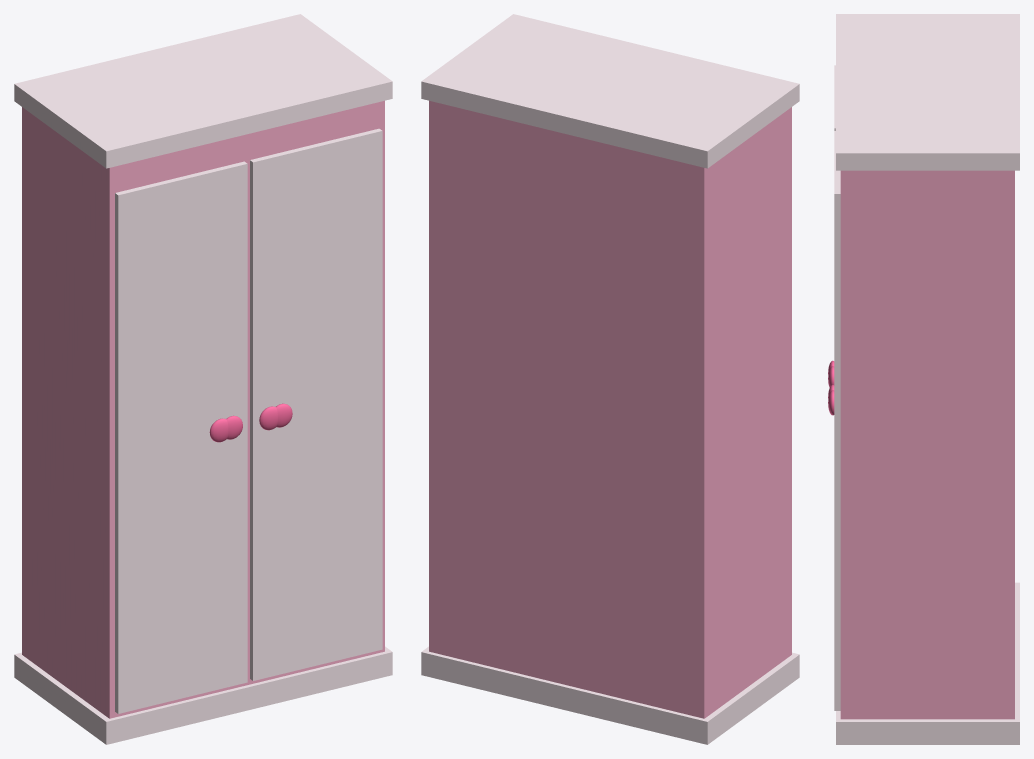
The model's file is wardrobe_cute_0.glb.
3 renders of one model, left to right at view 1: azimuth 30°, elevation 25°; view 2: azimuth 150°, elevation 25°; view 3: azimuth 270°, elevation 25°, orthographic.
Size of the model in its own units: 1.04 by 2.06 by 0.6048.
